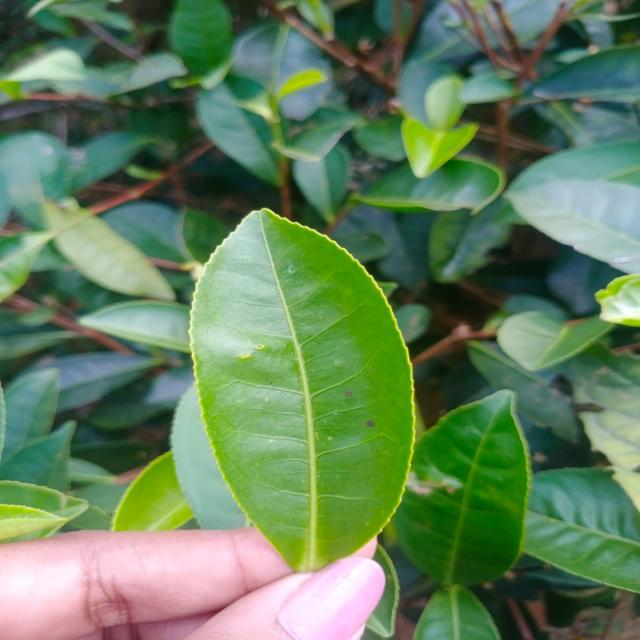Category D 7+ days, Not for Tea: (167, 163, 448, 574)
